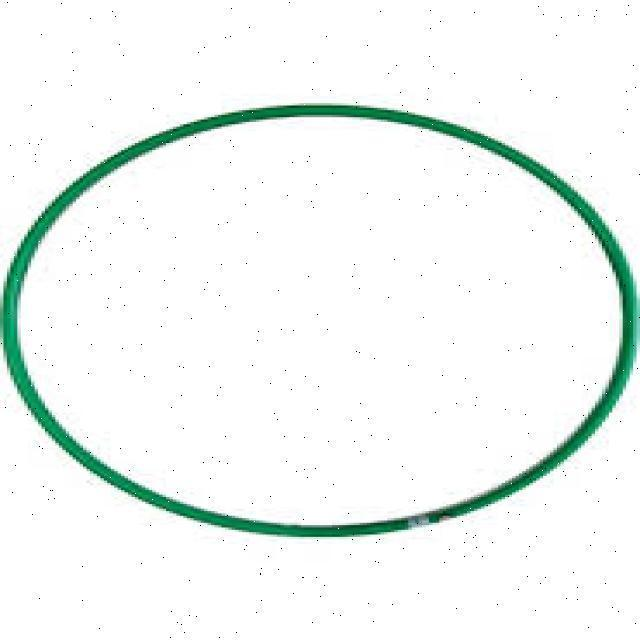Circle: (1, 102, 638, 536)
